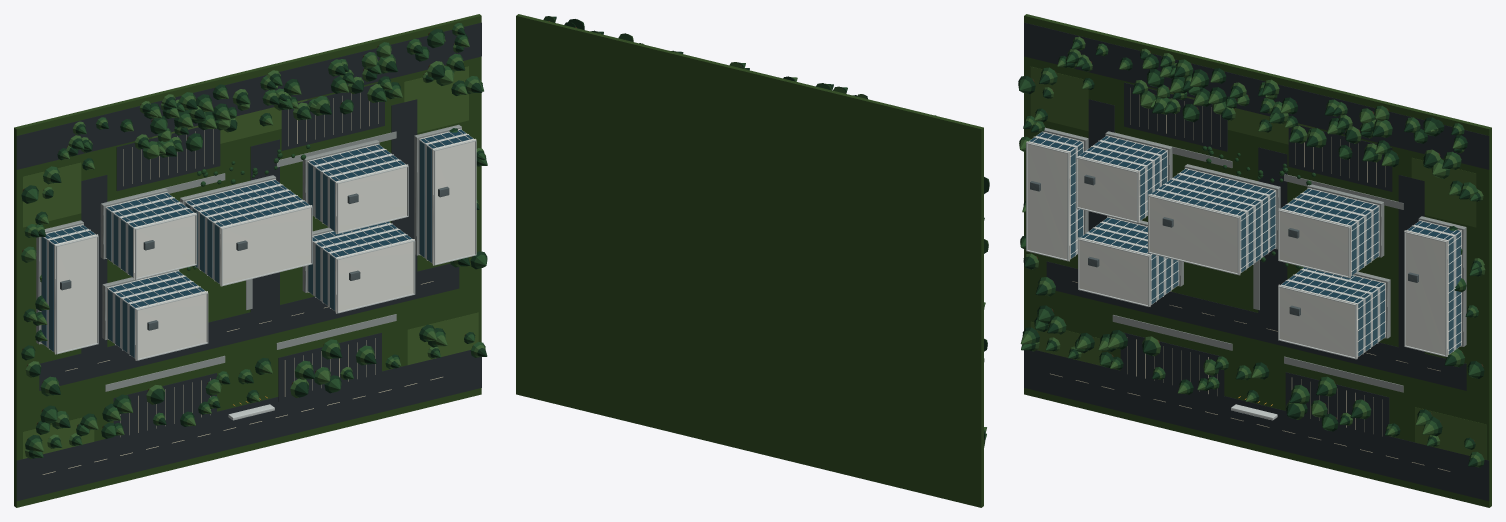
File: industrial_park.obj
3 renders of one model, left to right at view 1: azimuth 30°, elevation 25°; view 2: azimuth 150°, elevation 25°; view 3: azimuth 330°, elevation 25°, orthographic.
Parts seen in each view (by area): view 1: Terrain_pad_144_x_112_m, South_boulevard, North_access_road, Main_east_west_campus_drive, A_|_Central_research_headquarters_|_roof_cap, F_|_East_logistics_hall_|_roof_cap, G_|_West_service_building_|_roof_cap, E_|_South_east_production_offices_|_roof_cap, Parking_lot.002, D_|_South_west_innovation_center_|_roof_cap, C_|_North_east_engineering_block_|_roof_cap, Parking_lot.003 (+31 smaller); view 2: Terrain_pad_144_x_112_m; view 3: Terrain_pad_144_x_112_m, South_boulevard, North_access_road, Main_east_west_campus_drive, A_|_Central_research_headquarters_|_roof_cap, F_|_East_logistics_hall_|_roof_cap, G_|_West_service_building_|_roof_cap, E_|_South_east_production_offices_|_roof_cap, Parking_lot, C_|_North_east_engineering_block_|_roof_cap, D_|_South_west_innovation_center_|_roof_cap, Parking_lot.003 (+30 smaller).
Boxes of the visible parts, <box> form: Terrain_pad_144_x_112_m: <box>14,14,481,507</box>; South_boulevard: <box>16,350,481,500</box>; North_access_road: <box>16,22,481,169</box>; Main_east_west_campus_drive: <box>39,263,459,390</box>; A_|_Central_research_headquarters_|_roof_cap: <box>220,205,312,286</box>; F_|_East_logistics_hall_|_roof_cap: <box>432,138,476,265</box>; G_|_West_service_building_|_roof_cap: <box>54,234,98,354</box>; E_|_South_east_production_offices_|_roof_cap: <box>335,239,414,313</box>; Parking_lot.002: <box>116,127,220,190</box>; D_|_South_west_innovation_center_|_roof_cap: <box>135,291,207,360</box>; C_|_North_east_engineering_block_|_roof_cap: <box>335,164,408,234</box>; Parking_lot.003: <box>281,83,384,150</box>; Terrain_pad_144_x_112_m: <box>516,14,983,507</box>; Terrain_pad_144_x_112_m: <box>1024,14,1491,507</box>; South_boulevard: <box>1024,350,1489,500</box>; North_access_road: <box>1024,22,1489,169</box>; Main_east_west_campus_drive: <box>1046,261,1466,390</box>; A_|_Central_research_headquarters_|_roof_cap: <box>1148,194,1240,275</box>; F_|_East_logistics_hall_|_roof_cap: <box>1404,230,1447,356</box>; G_|_West_service_building_|_roof_cap: <box>1026,141,1069,261</box>; E_|_South_east_production_offices_|_roof_cap: <box>1278,284,1357,359</box>; Parking_lot: <box>1120,332,1224,400</box>; C_|_North_east_engineering_block_|_roof_cap: <box>1278,208,1350,278</box>; D_|_South_west_innovation_center_|_roof_cap: <box>1078,237,1150,306</box>; Parking_lot.003: <box>1288,125,1392,191</box>.
Size of the model in its own units: 144 by 113 by 23.65.
